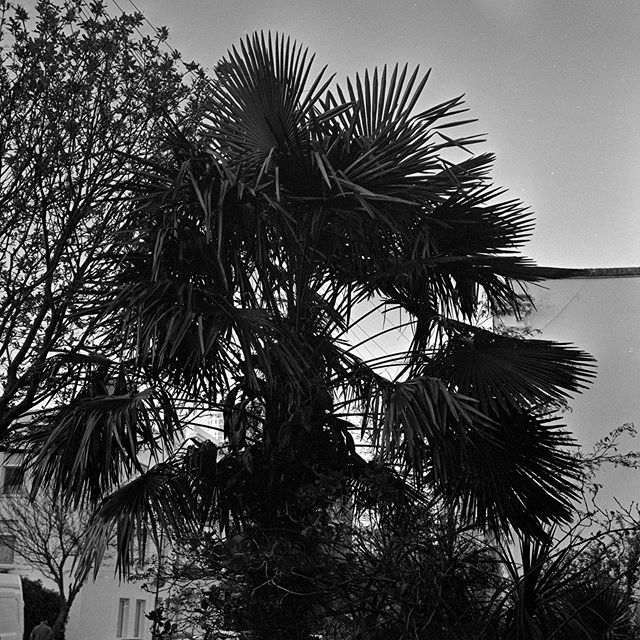sky: (245, 7, 640, 231)
tree: (149, 79, 535, 625), (1, 12, 214, 399)
